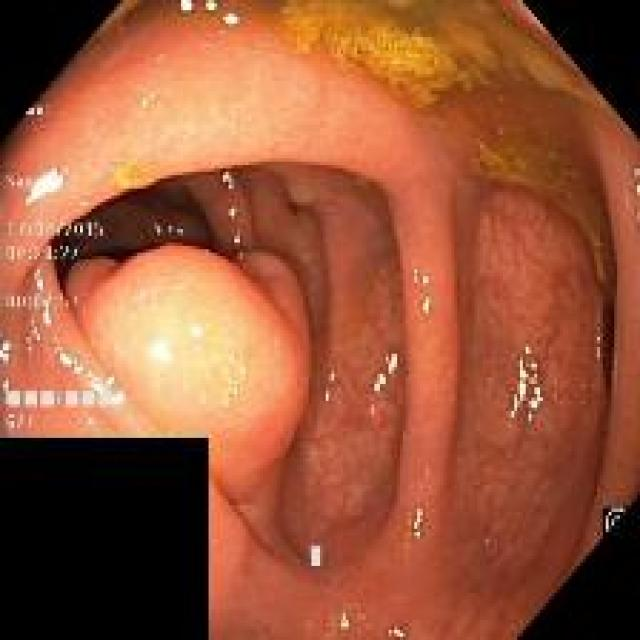Polyps: (65, 246, 310, 554)
